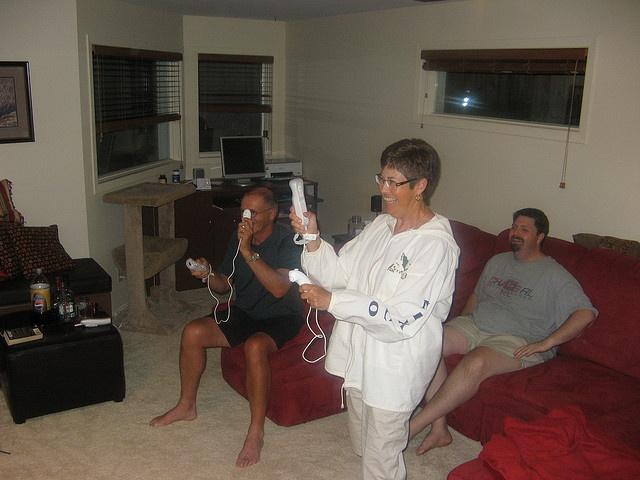AIO PC-Monitor-TV: (219, 134, 265, 186)
Printer: (263, 155, 303, 181)
